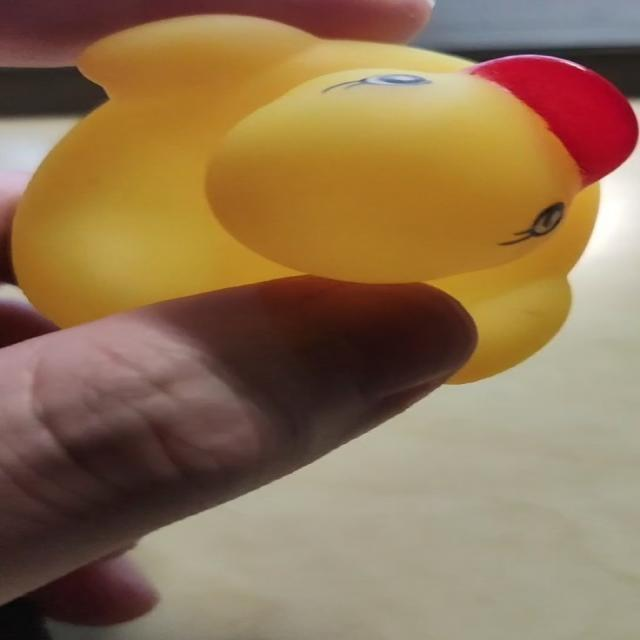rubber-duck: (12, 14, 635, 381)
